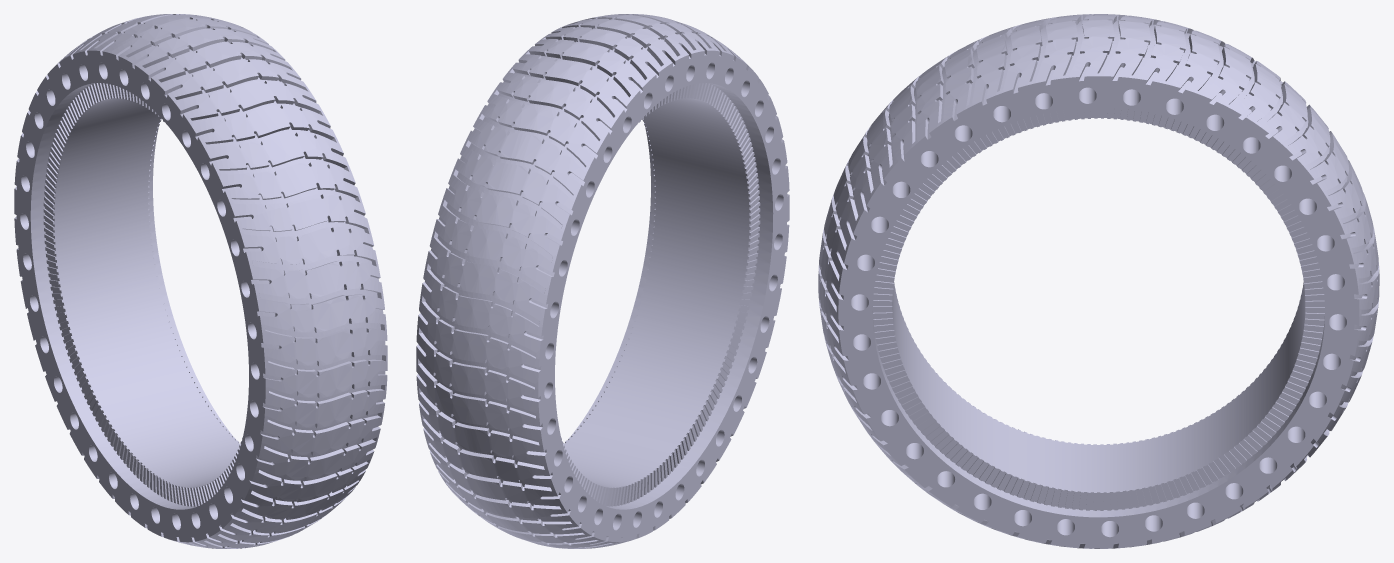
The model's file is botwheel_tyre.dae.
The picture shows the model from 3 angles, left to right: view 1: azimuth 30°, elevation 25°; view 2: azimuth 150°, elevation 25°; view 3: azimuth 270°, elevation 25°; orthographic projection. The views are drawn at different scales.
Parts seen in each view (by area): view 1: node0; view 2: node0; view 3: node0.
Boxes of the visible parts, x1,y1,x2,y2 form: node0: (14,14,387,548); node0: (416,14,789,548); node0: (818,14,1379,548).
Size of the model in its own units: 0.0446 by 0.1712 by 0.1712.
